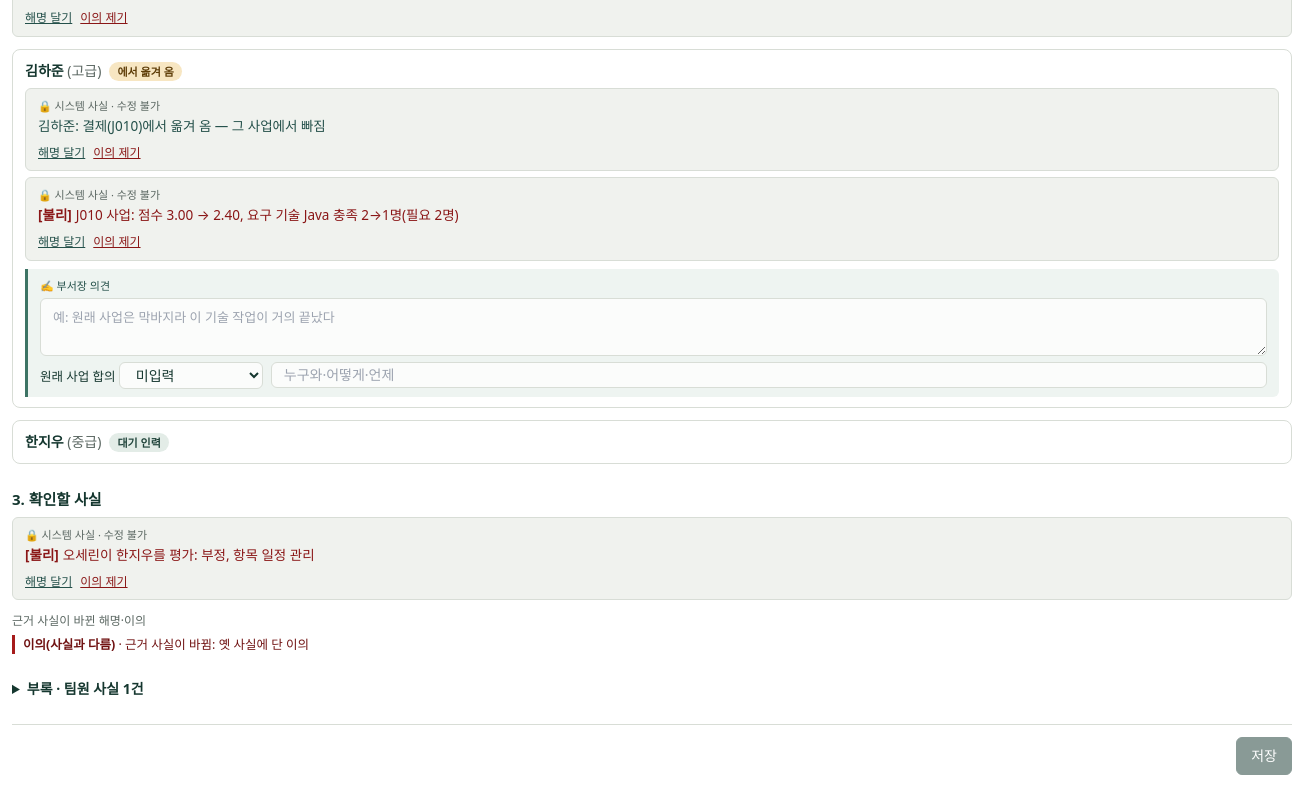
ReviewDoc — 인사팀 검토 자료(A 문서형) › 이의는 사유가 없으면 추가할 수 없다
The width and height of the screenshot is (1304, 787).
(page scrolled)
Click the button "이의 제기" below "오세린이 한지우를 평가: 부정, 항목 일정 관리" at {"x": 104, "y": 582}, box [80,573,128,592]
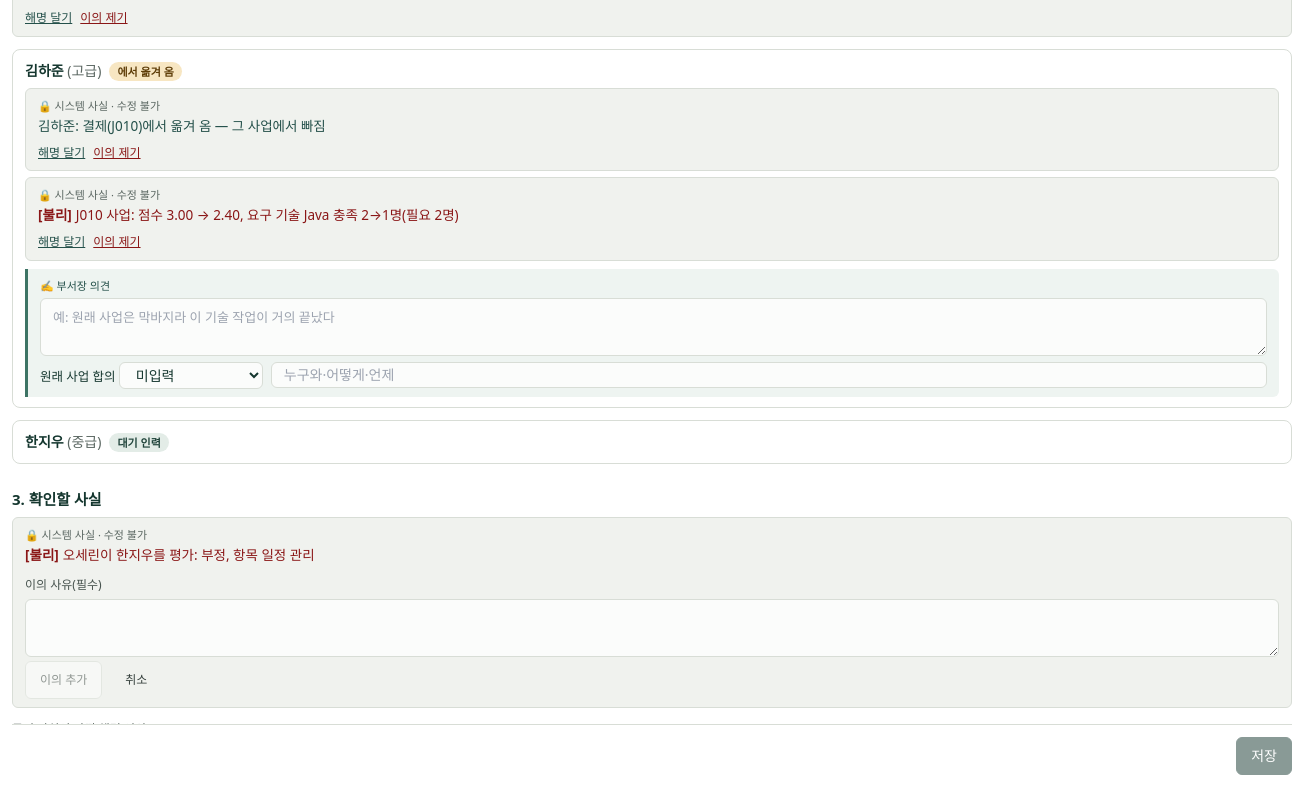
Now the button "이의 추가" is disabled, box [25,660,102,698]
Type "2024 과제 경력 누락" into the text box labelled "이의 사유(필수)" at {"x": 652, "y": 628}, box [25,598,1279,656]
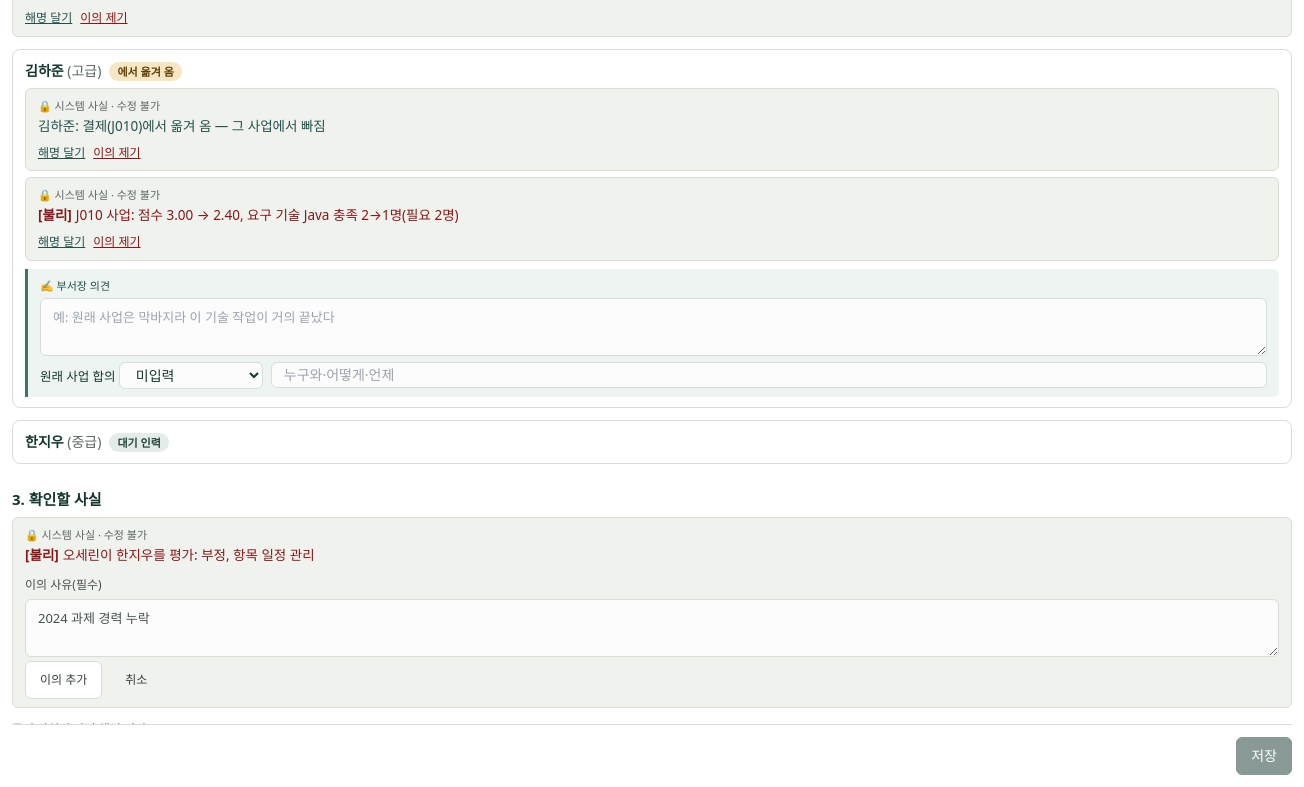
Now the button "이의 추가" is enabled, box [25,660,102,698]
